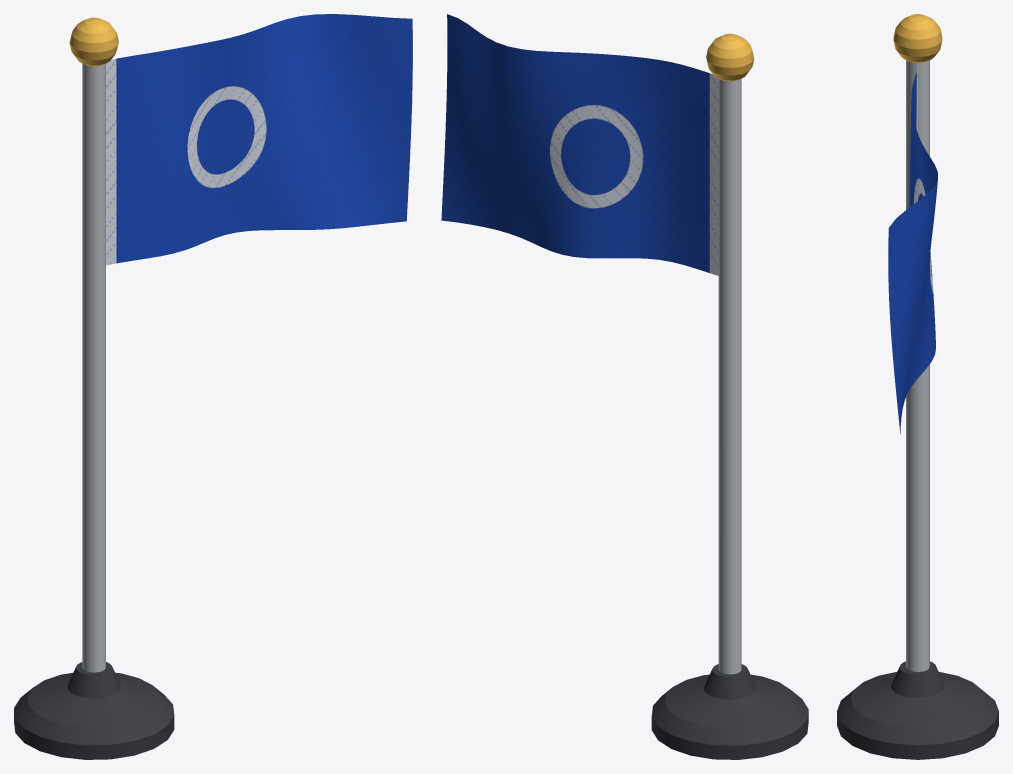
Rendered from flag_blue.obj.
3 renders of one model, left to right at view 1: azimuth 30°, elevation 25°; view 2: azimuth 150°, elevation 25°; view 3: azimuth 270°, elevation 25°, orthographic. The views are drawn at different scales.
Bounding box in the file's own units: 80.29 × 145 × 30.
Materials: 4 (1 with a texture image).
